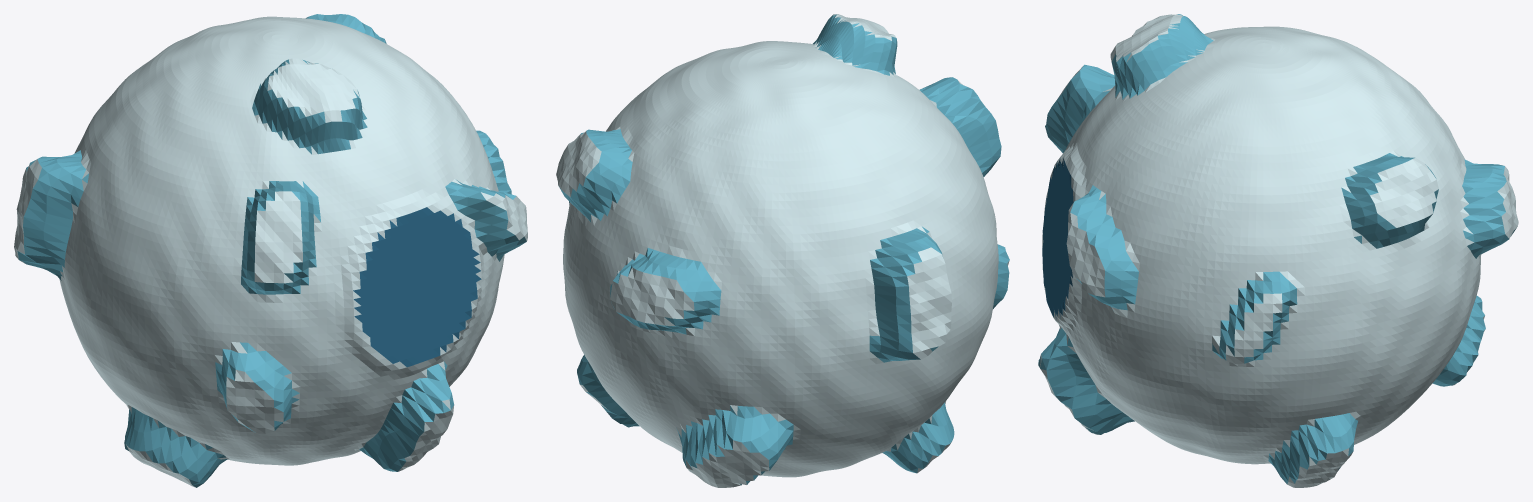
Rendered from nivalis.obj.
3 views of the same model, side by side, from view 1: azimuth 30°, elevation 25°; view 2: azimuth 150°, elevation 25°; view 3: azimuth 270°, elevation 25° (orthographic). The views are drawn at different scales.
Parts seen in each view (by area): view 1: Nivalis; view 2: Nivalis; view 3: Nivalis.
Boxes of the visible parts, <box> form: Nivalis: <box>14,14,527,487</box>; Nivalis: <box>556,14,1009,487</box>; Nivalis: <box>1038,14,1518,487</box>.
Size of the model in its own units: 2.26 by 2.1 by 2.21.
